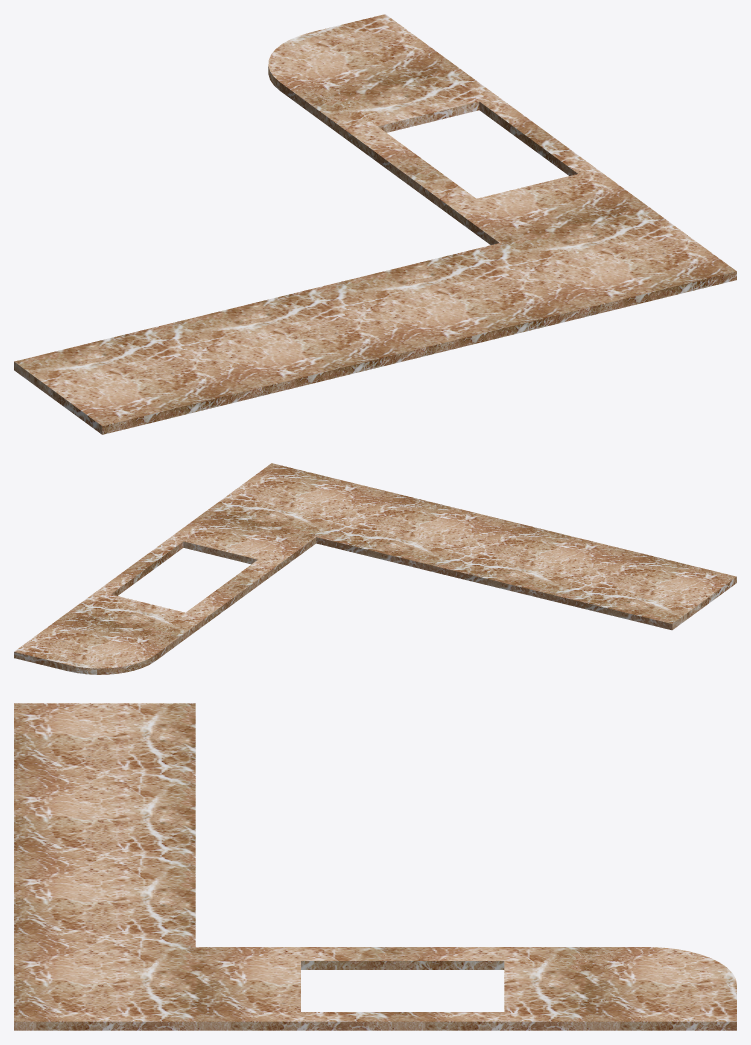
Rendered from taimian.fbx.
The picture shows the model from 3 angles, top to bottom: view 1: azimuth 30°, elevation 25°; view 2: azimuth 150°, elevation 25°; view 3: azimuth 270°, elevation 25°; orthographic projection. The views are drawn at different scales.
Parts seen in each view (by area): view 1: taimian; view 2: taimian; view 3: taimian.
Boxes of the visible parts, x1,y1,x2,y2 form: taimian: [14, 14, 736, 434]; taimian: [14, 463, 736, 674]; taimian: [14, 703, 736, 1030].
Bounding box in the file's own units: 302 × 3.96 × 290.
